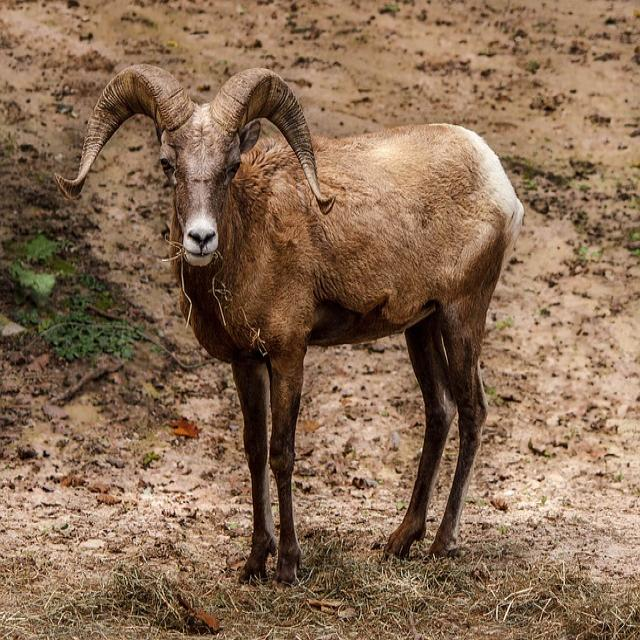goat: (68, 68, 525, 586)
